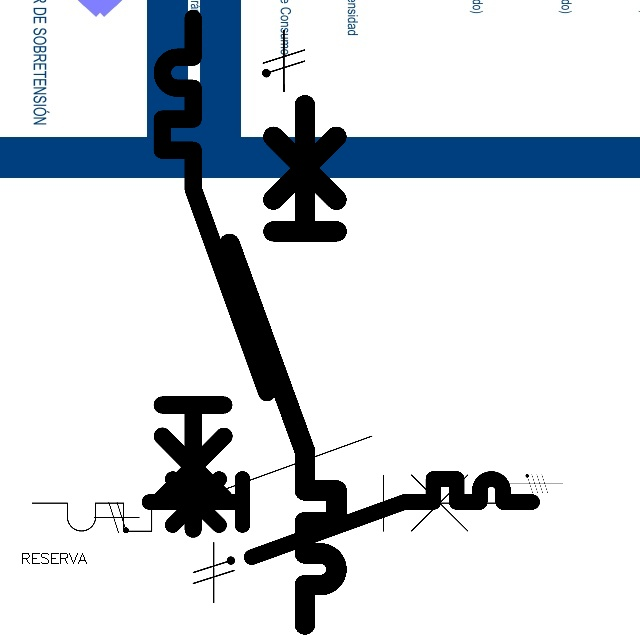interruptor_termomagnetico: (216, 91, 350, 637), (149, 5, 280, 542), (20, 424, 507, 543), (139, 469, 542, 567)
